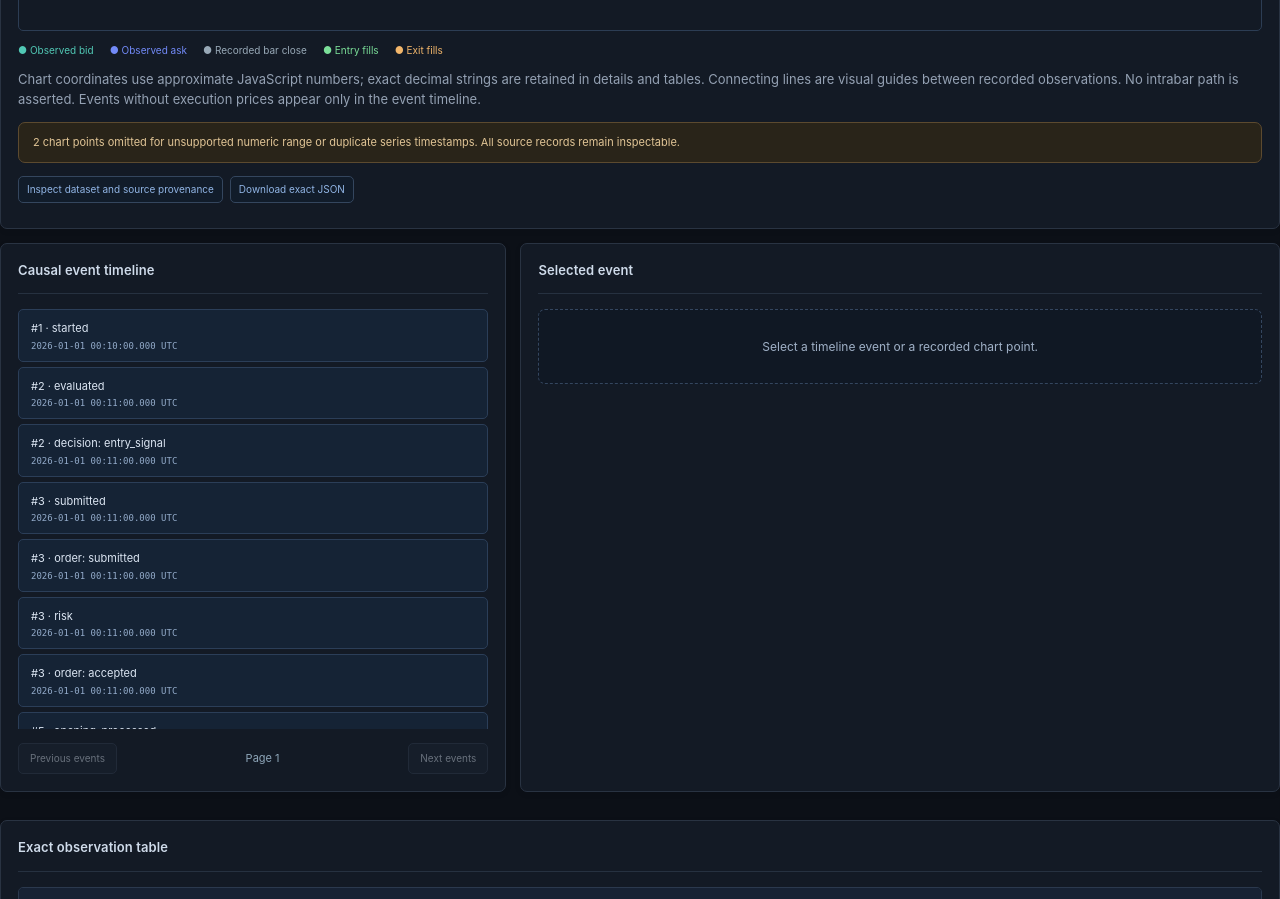
it: authoritative debugger provenance › supports accessible event selection and displays causal context
(page scrolled)
Click the button "#2 · decision: entry_signal 2026-01-01 00:11:00.000 UTC" at (110, 443), box [18, 424, 488, 476]
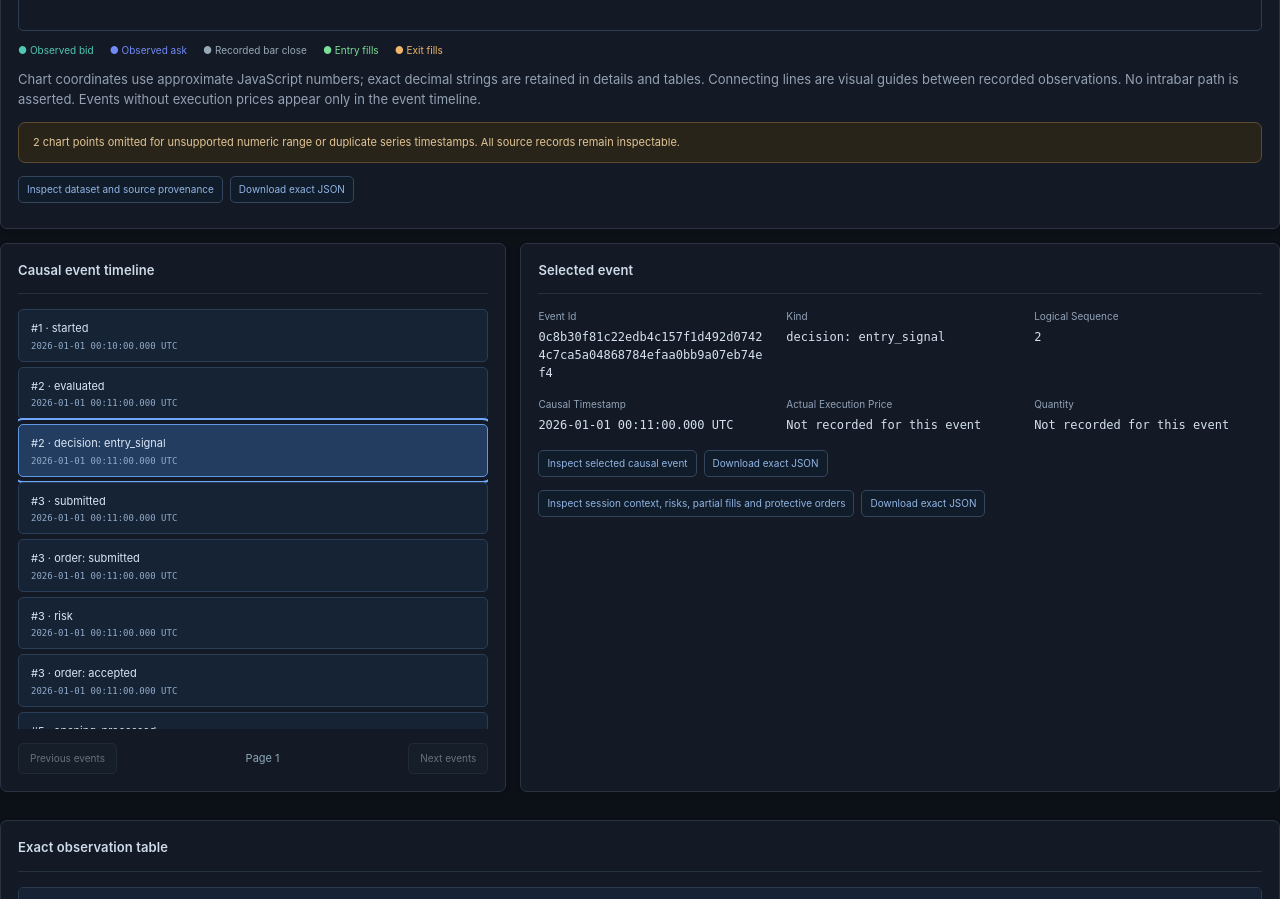
Check: the text "0c8b30f81c22edb4c157f1d492d07424c7ca5a04868784efaa0bb9a07eb74ef4" is shown, box [538, 328, 766, 382]
Check: the text "Not recorded for this event" is shown 2 times, box [786, 416, 1014, 434]; [1034, 416, 1262, 434]
Check: the button "Inspect selected causal event" is shown, box [538, 450, 697, 477]
